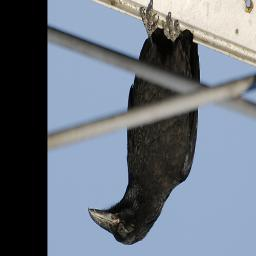Crow: (87, 0, 202, 247)
